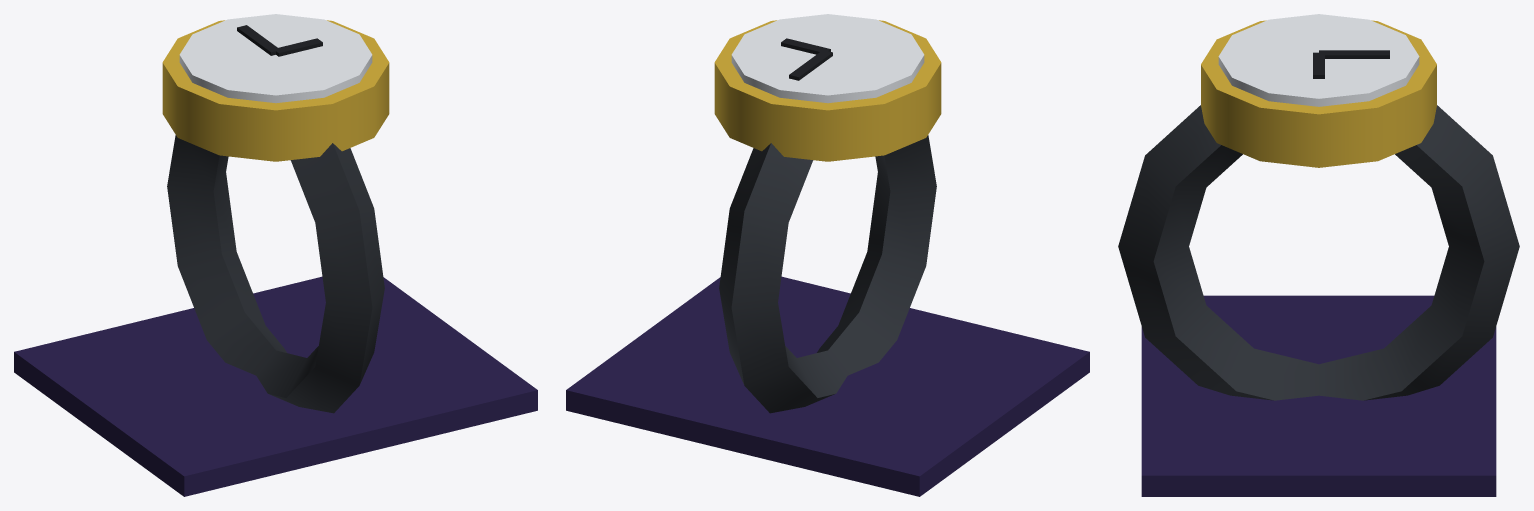
File: watch.glb
3 views of the same model, side by side, from view 1: azimuth 30°, elevation 25°; view 2: azimuth 150°, elevation 25°; view 3: azimuth 270°, elevation 25° (orthographic). The views are drawn at different scales.
Parts seen in each view (by area): view 1: watch; view 2: watch; view 3: watch.
Part boxes in pixels (box(x1,y1,x2,y2)): watch: box(14, 14, 537, 496); watch: box(566, 14, 1089, 496); watch: box(1118, 14, 1519, 496).
Size of the model in its own units: 0.072 by 0.0702 by 0.068.
